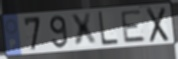7: (23, 16, 42, 53)
9: (49, 15, 69, 50)
E: (120, 9, 148, 45)
L: (97, 10, 120, 48)
X: (69, 12, 99, 49), (145, 6, 170, 44)
